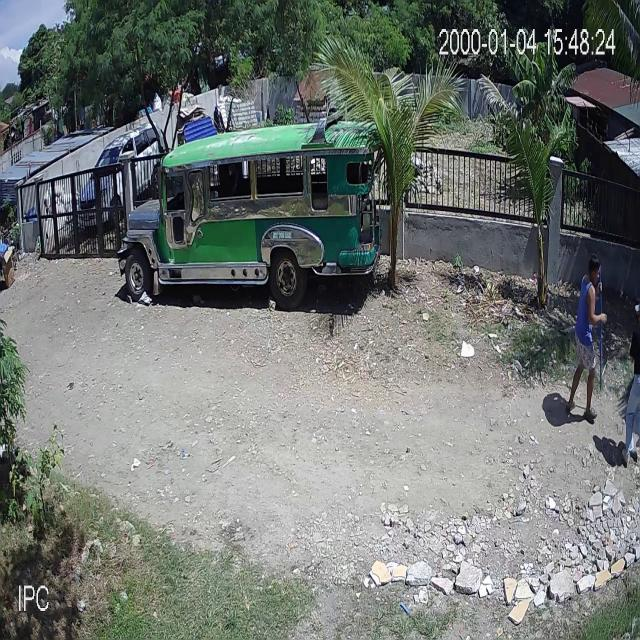running: (565, 253, 607, 420), (621, 300, 640, 465)
